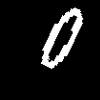chain: (41, 8, 82, 68)
